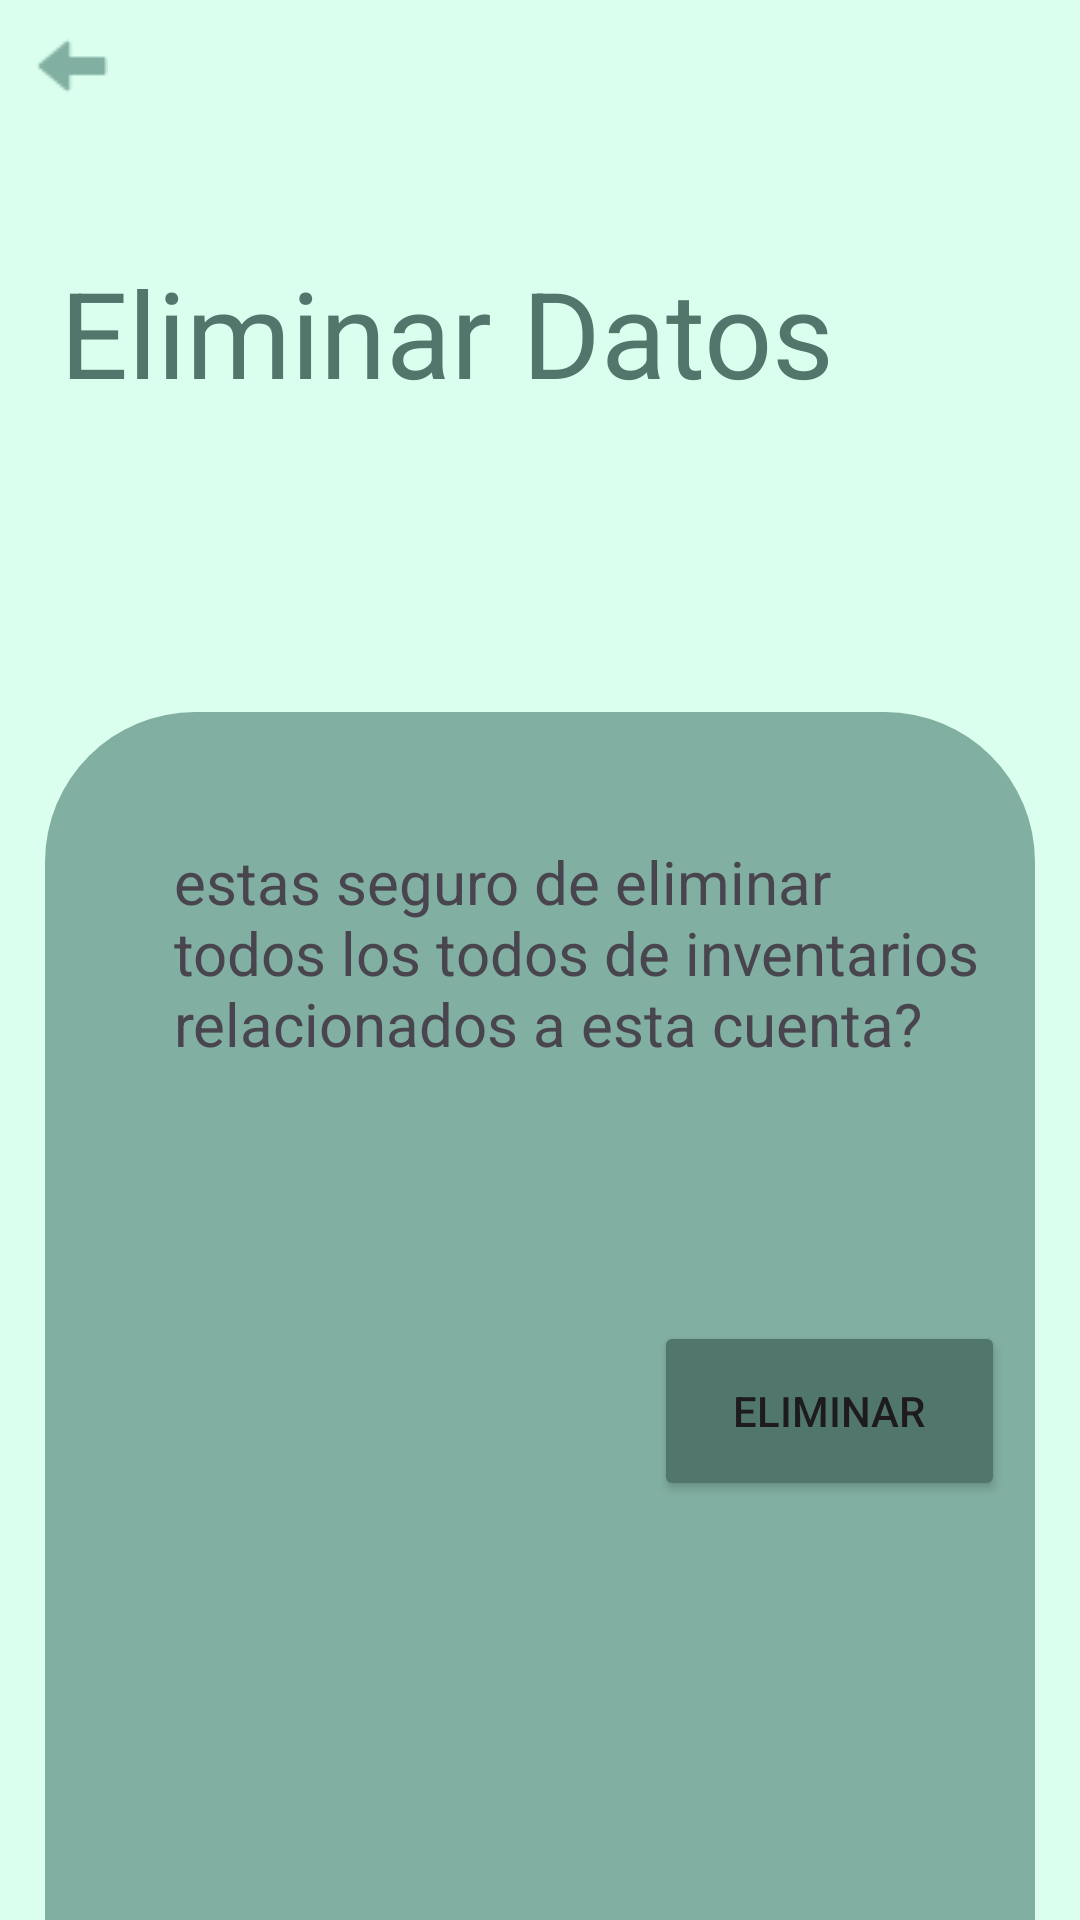

Where icons sit on this 1080×1920 app screen, as (x1, y1, x2, y2):
back: (38, 41, 106, 91)
